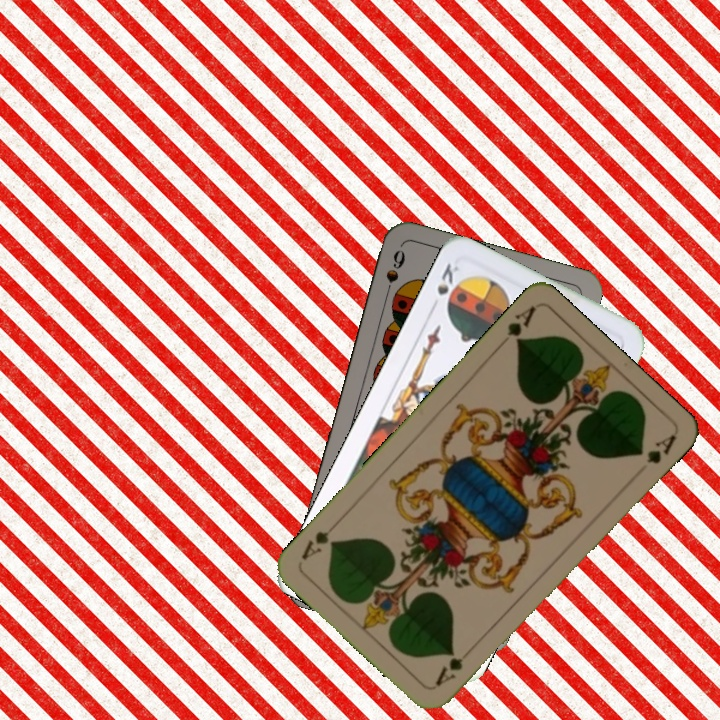GA: (493, 302, 538, 351), (431, 642, 475, 690)
S9: (380, 245, 408, 303)
SK: (433, 259, 462, 298)
